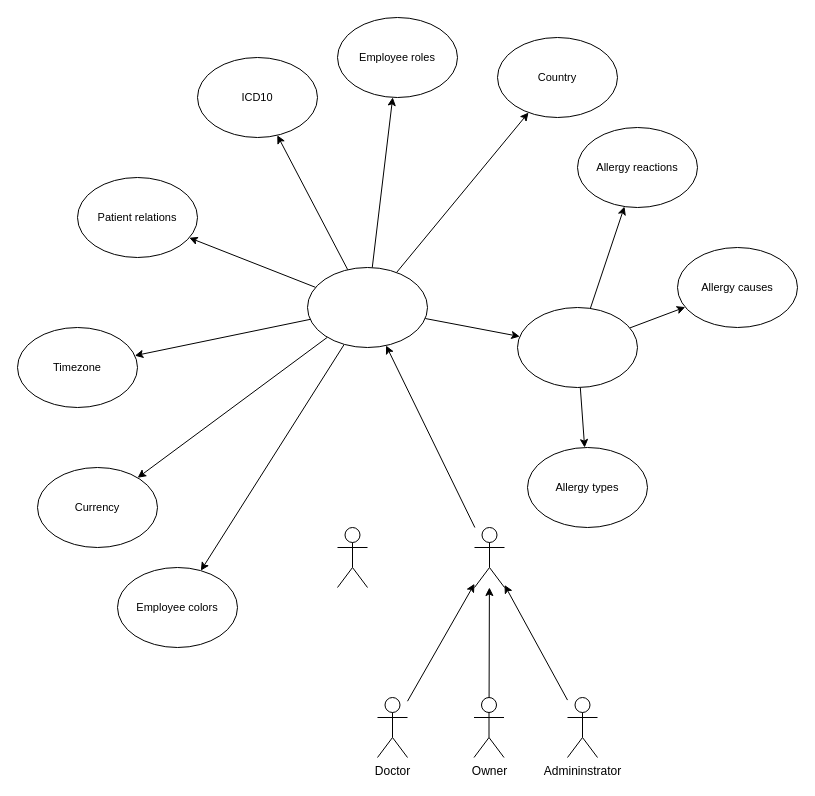
Image size: 815x796. Some labels were removed from this diagram. The centre of each missing label's shape, as x and y in pixels:
"Allergies" belongs at [577,347].
"Clinic user" belongs at [489,557].
"User" belongs at [352,557].
"View handbooks" belongs at [367,307].
